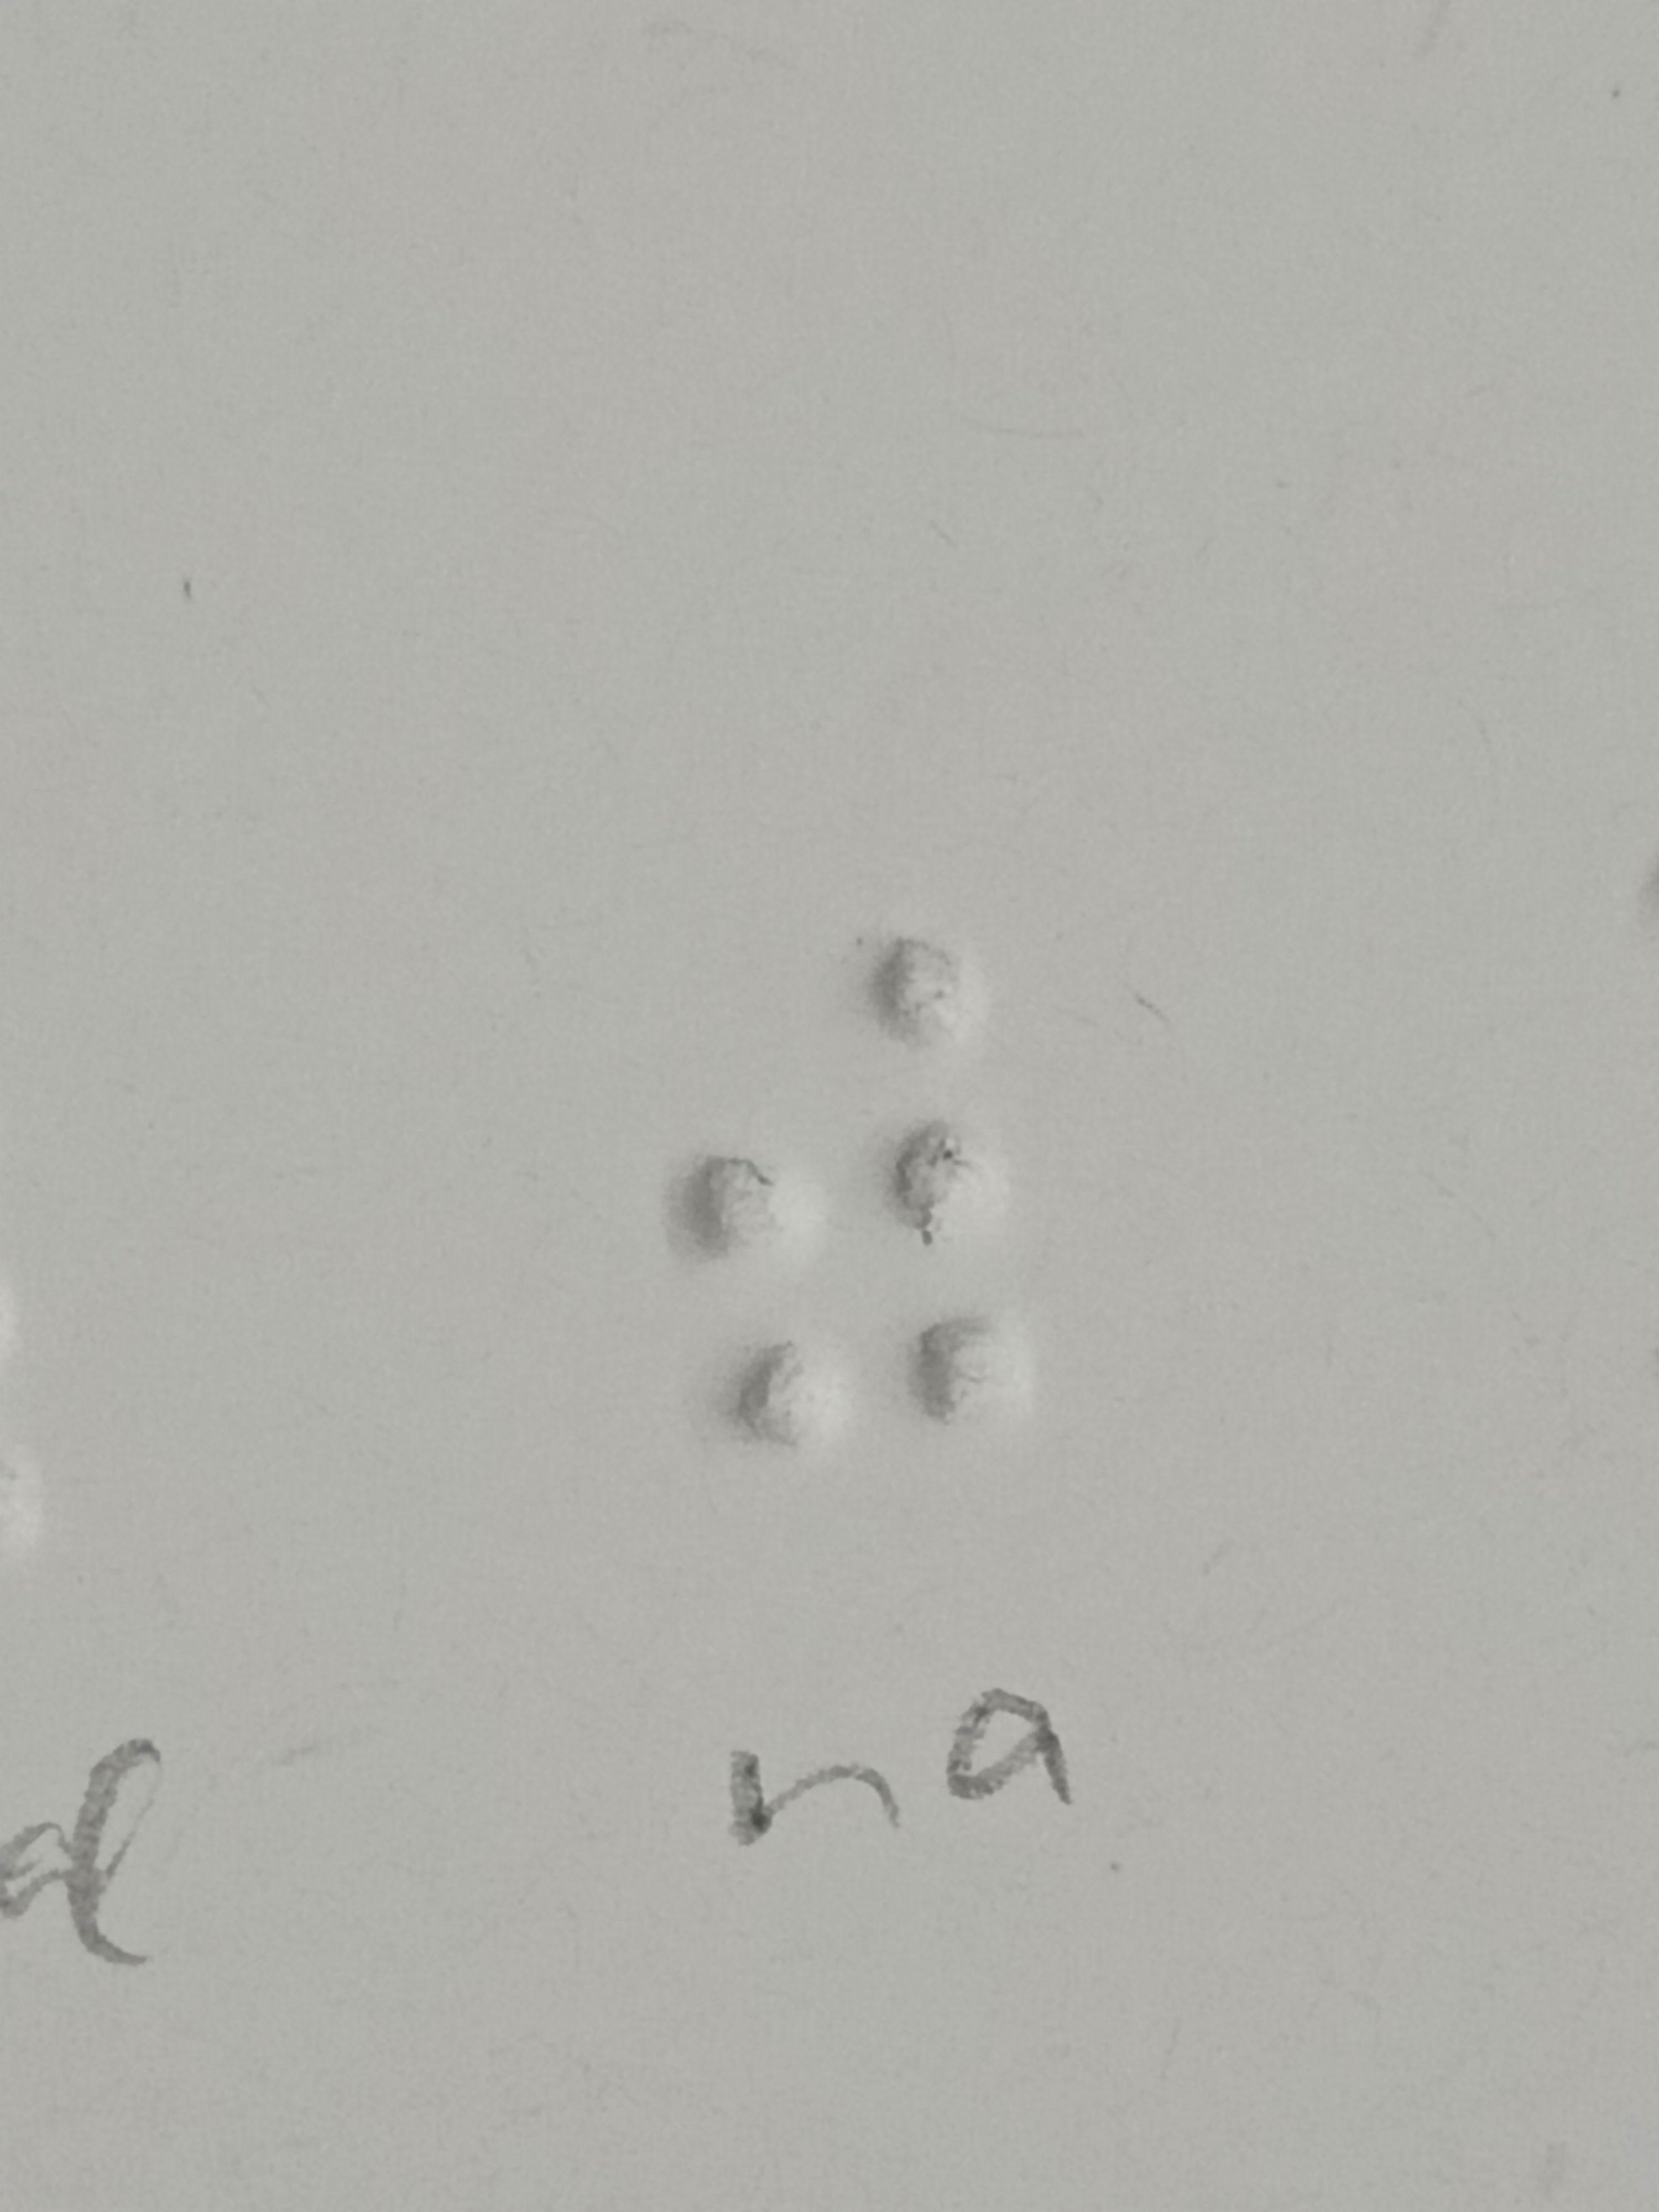one_cell_non_alphabet_na: (676, 930, 1022, 1450)
